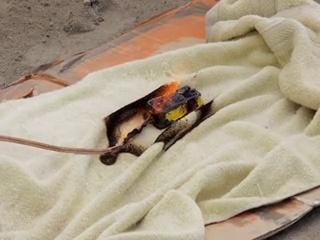Fire: (118, 88, 156, 144)
